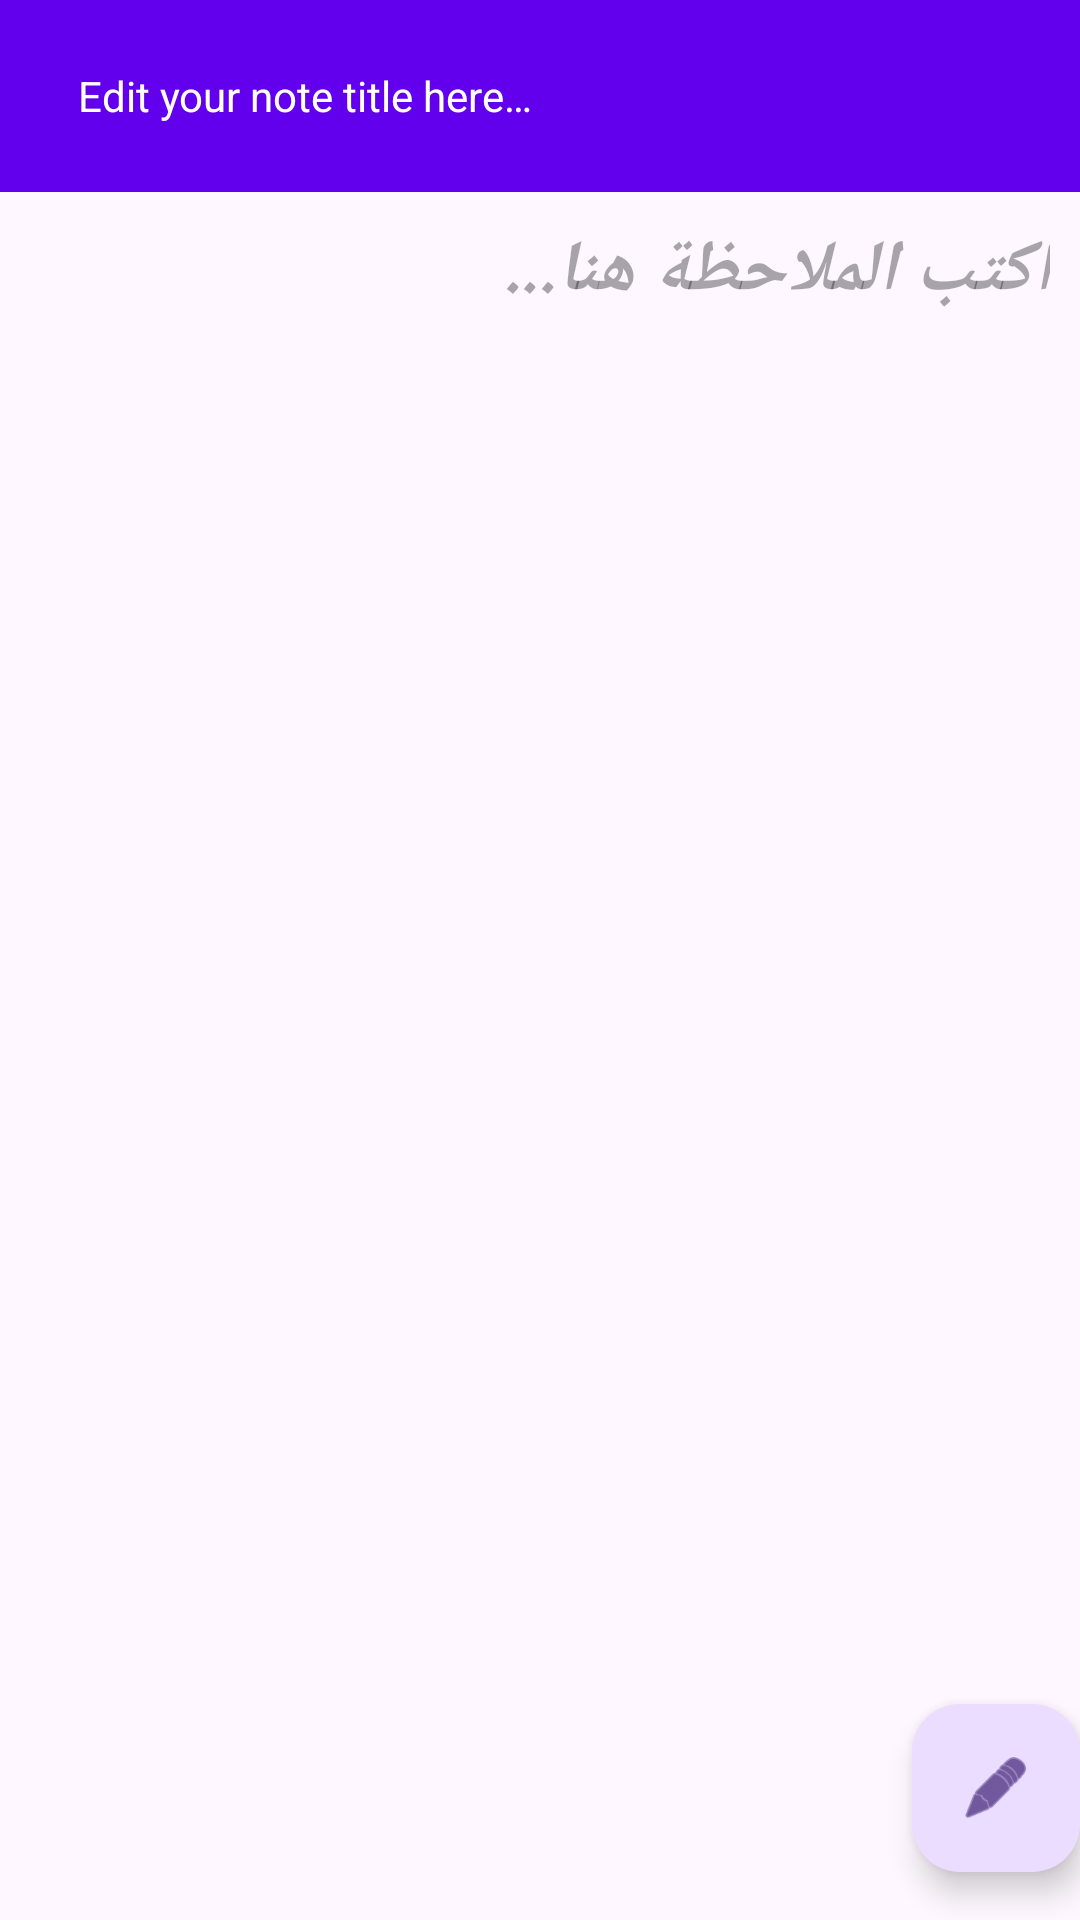

Screen size 1080px x 1920px. Icon name, then its center in pixels as (x=x, y=y):
edit: (x=996, y=1788)
